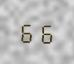six: (36, 19, 52, 44), (19, 19, 35, 43)
